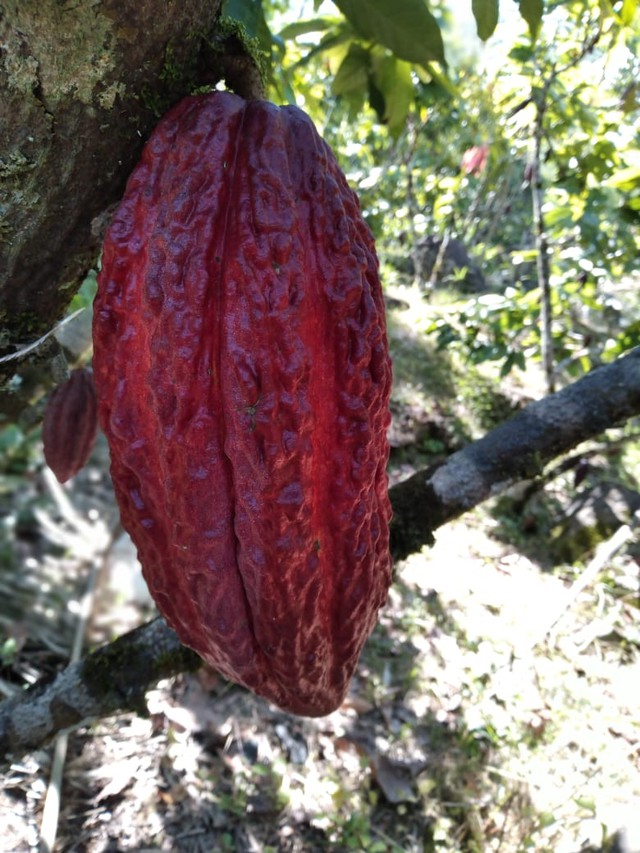Health: (77, 70, 408, 735)
